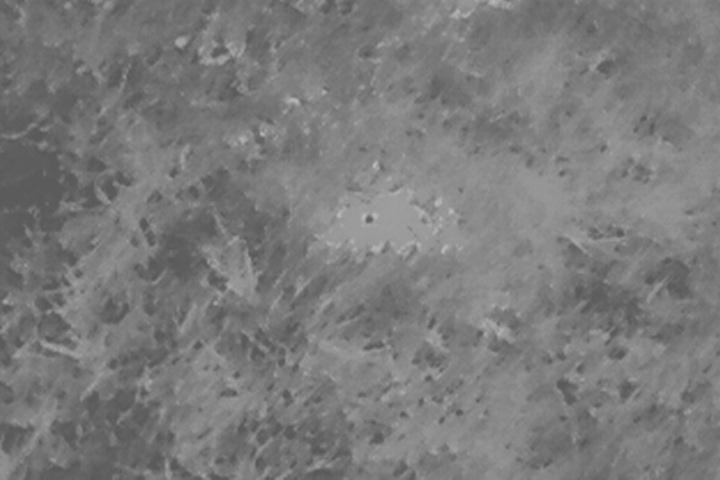landmine: (331, 190, 425, 251)
